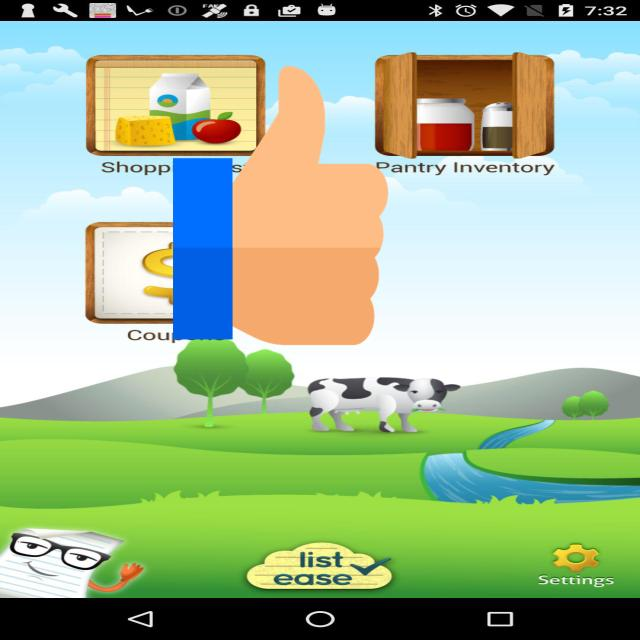privacy zuckering: (173, 59, 388, 352)
